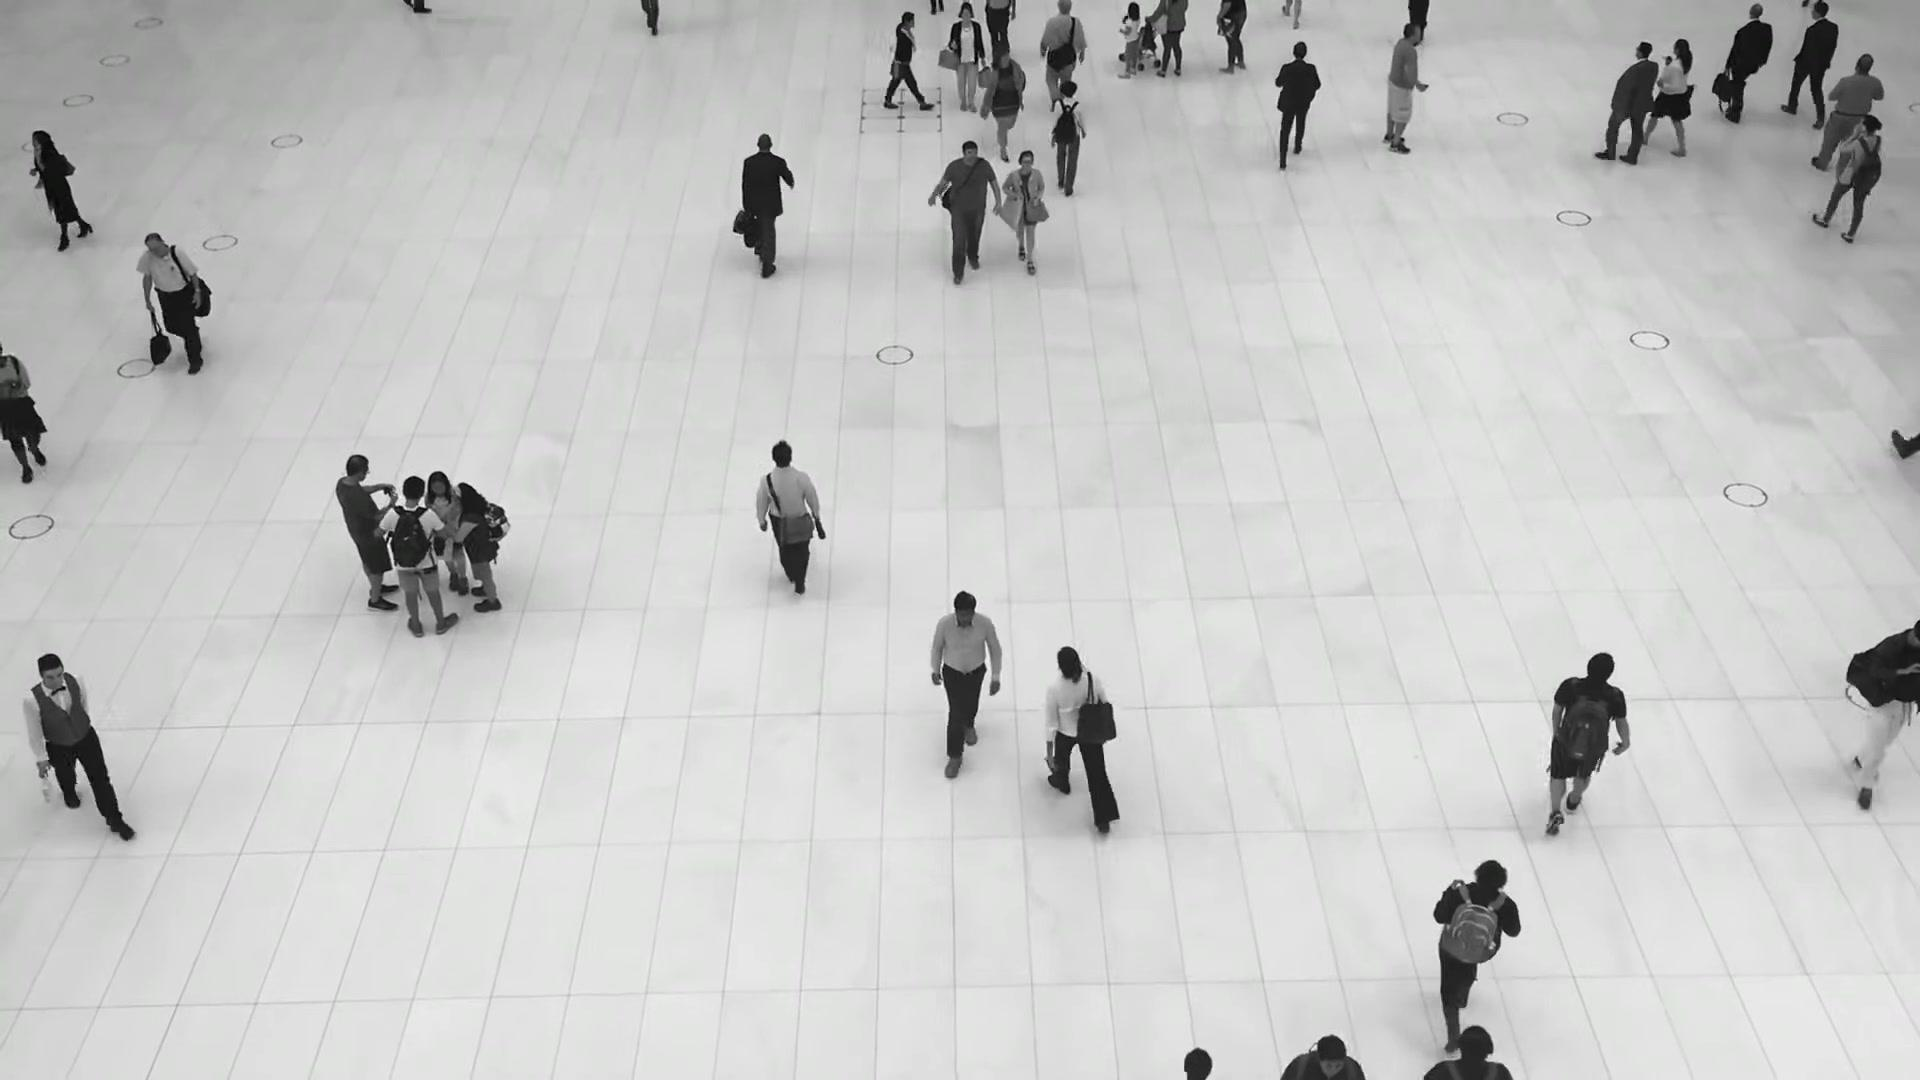person: (22, 651, 138, 836), (1431, 857, 1521, 1054), (1546, 652, 1630, 845), (1033, 641, 1109, 826), (1849, 621, 1920, 803), (929, 589, 1001, 766), (380, 477, 460, 635), (755, 440, 825, 604), (134, 233, 209, 379), (928, 140, 1002, 281), (334, 453, 400, 608), (1823, 114, 1888, 246), (1815, 51, 1884, 174), (739, 131, 796, 276), (0, 343, 51, 489), (29, 128, 90, 252), (1780, 3, 1839, 128), (1713, 3, 1772, 122), (450, 480, 503, 612), (1603, 41, 1657, 165), (1381, 23, 1430, 155), (1639, 37, 1693, 157), (1273, 40, 1321, 172), (423, 469, 469, 591), (1002, 149, 1046, 273), (979, 47, 1025, 162), (1038, 0, 1088, 103), (1049, 79, 1088, 194), (947, 1, 985, 112), (889, 10, 931, 111), (1116, 2, 1140, 78)
